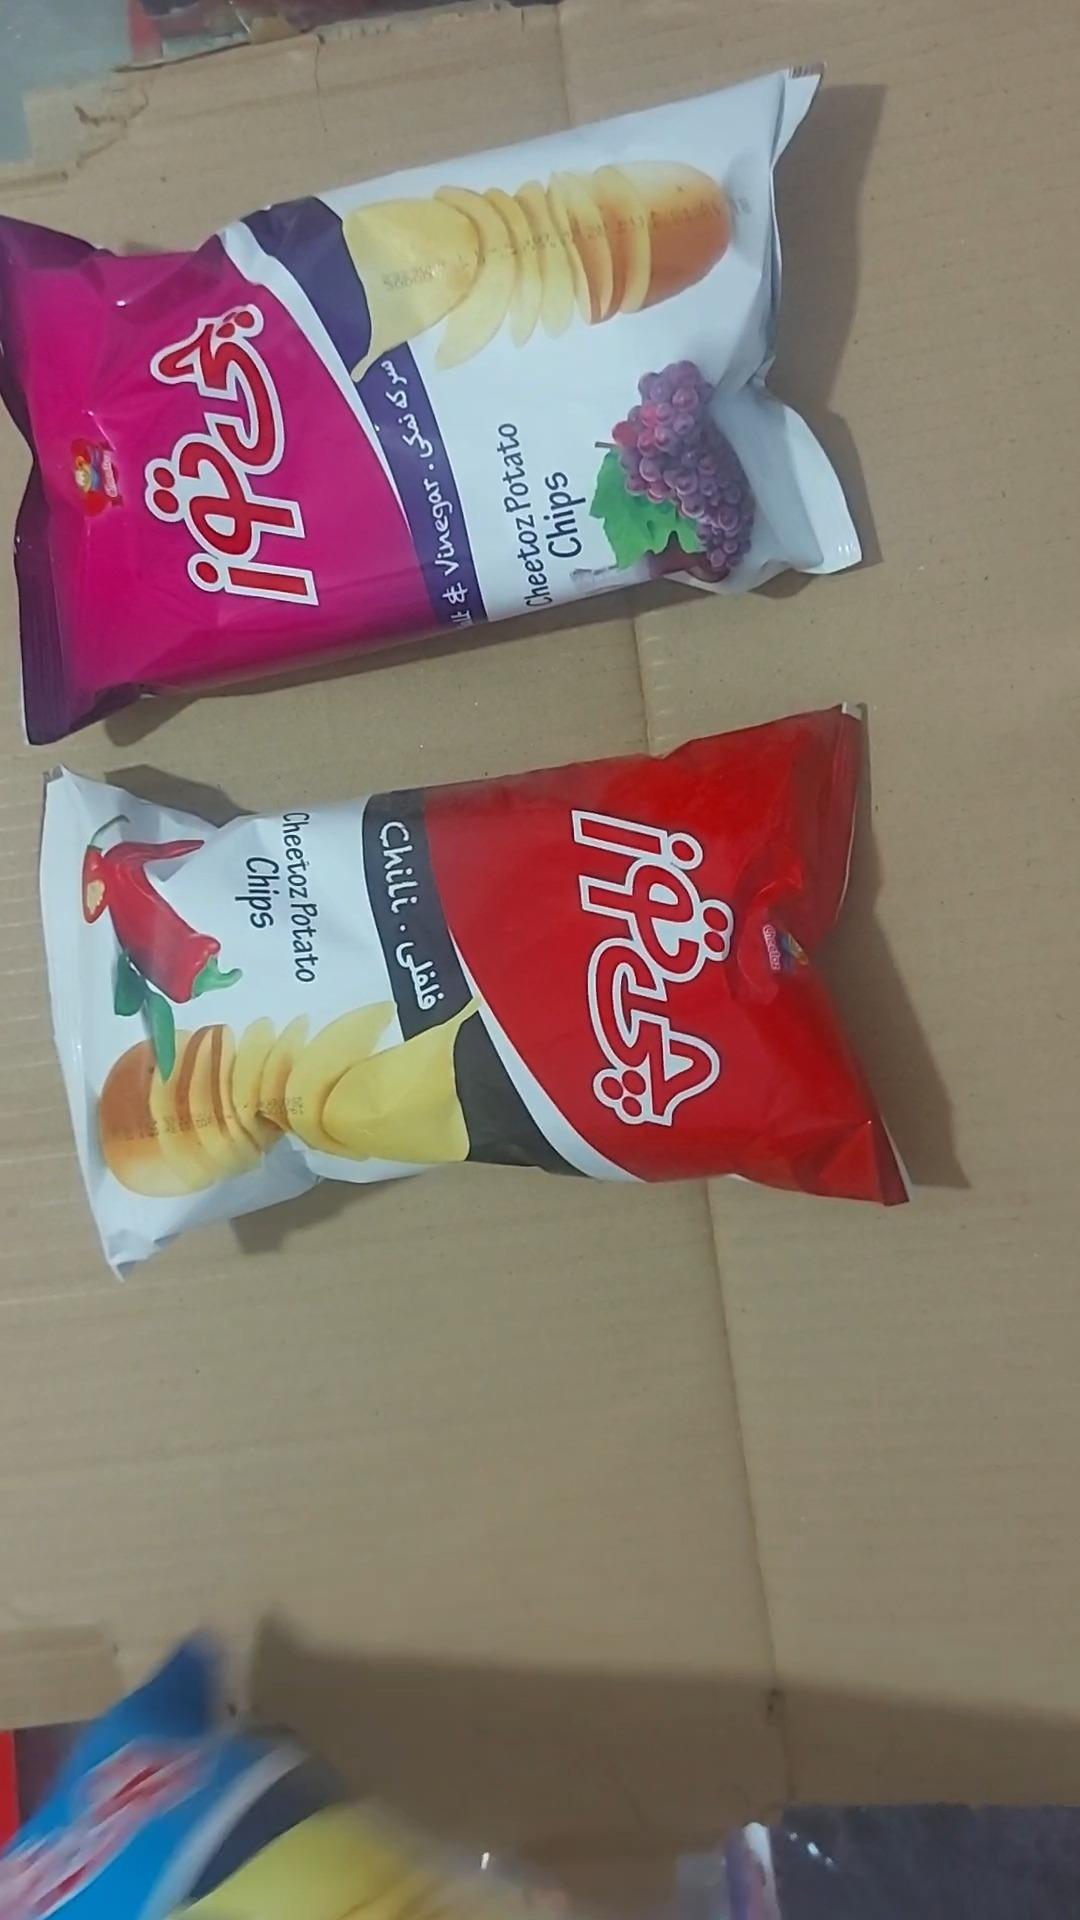Cheetoz chili chips: (38, 705, 913, 1284)
Cheetoz vinegar chips: (0, 69, 862, 749)
